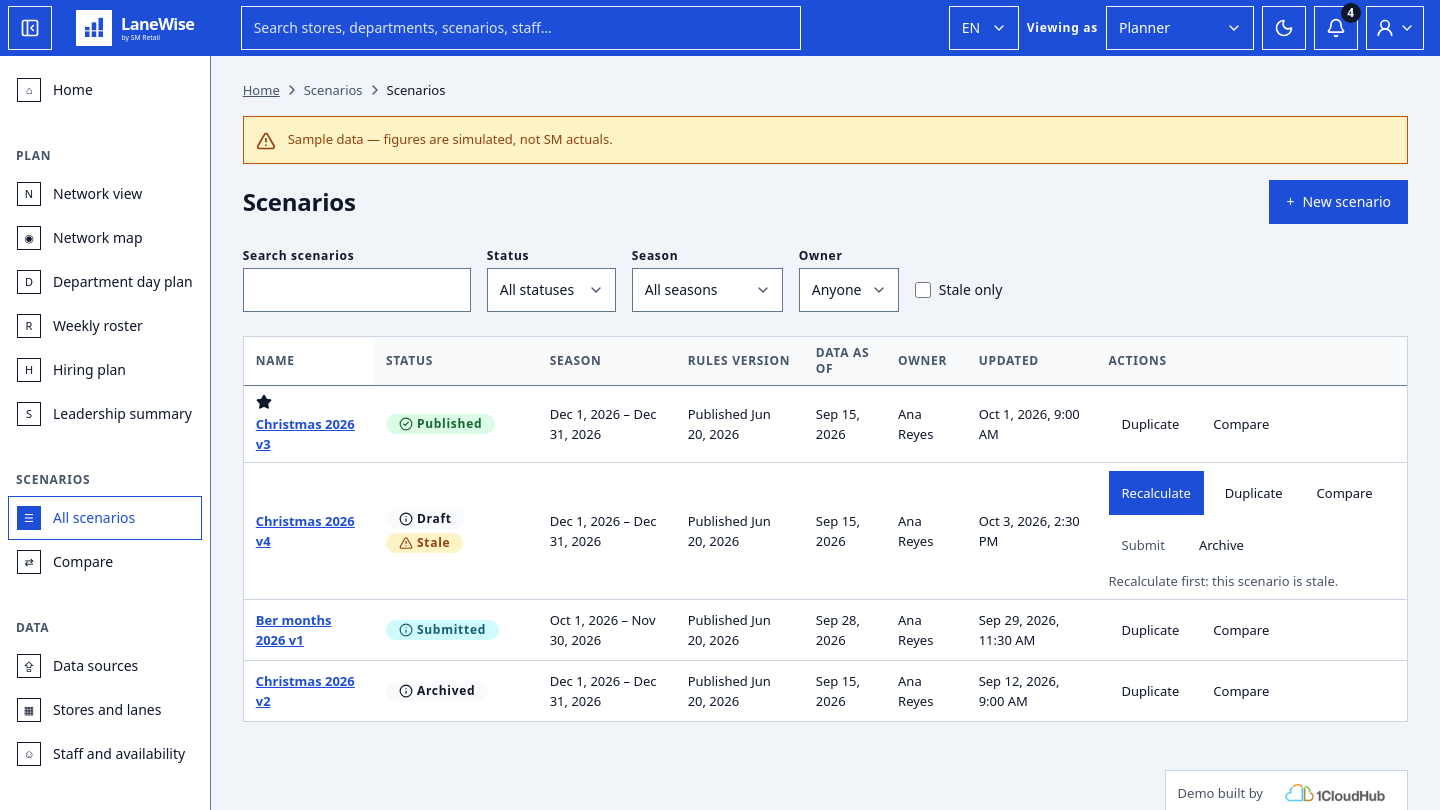
it: SCR-030 Scenario list › recalculates a stale draft from its row
Click the button with aria-label "Recalculate: Christmas 2026 v4". click: (1156, 493)
box: [1108,471,1204,515]
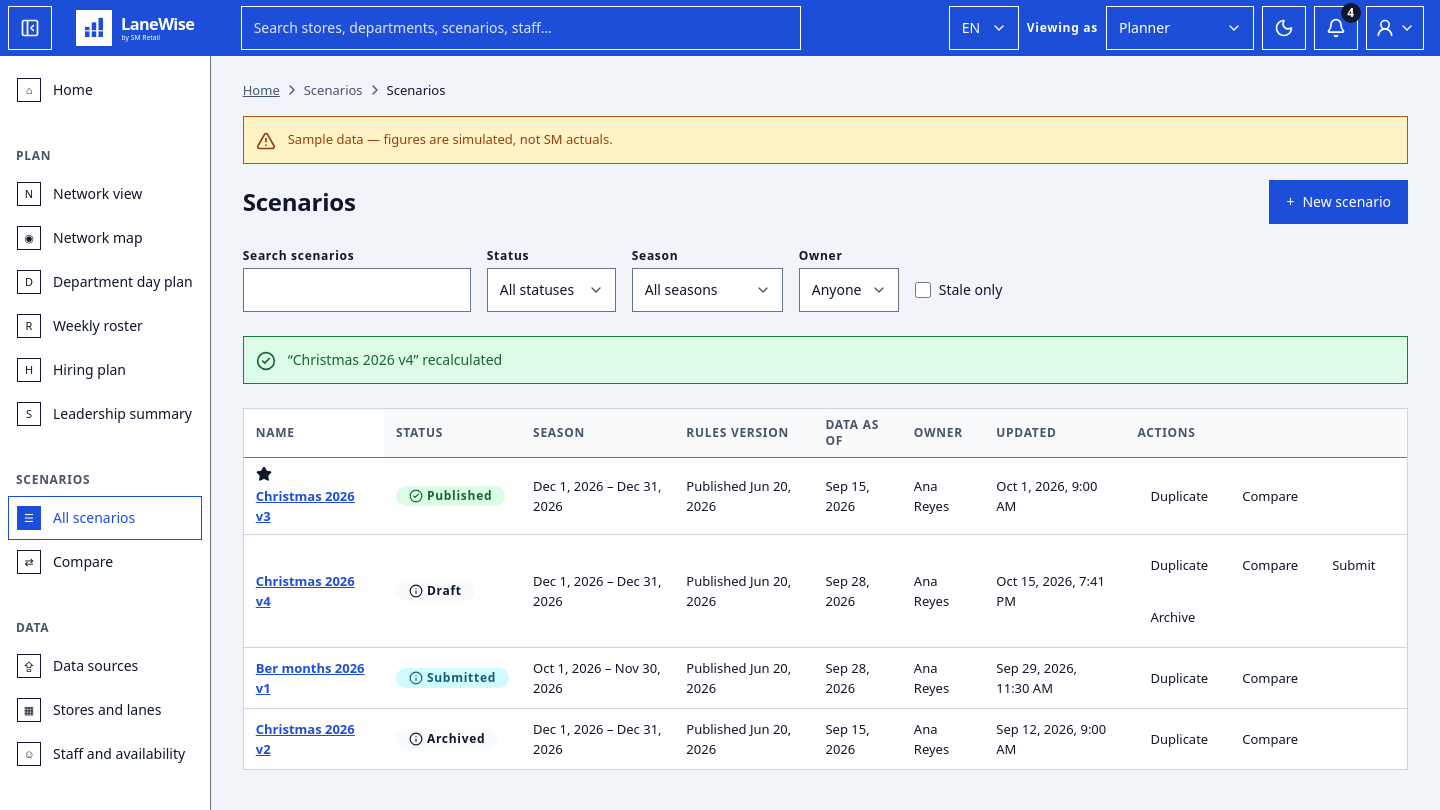
Expected: the text "“Christmas 2026 v4” recalculated" is shown, [288,350,502,369]
